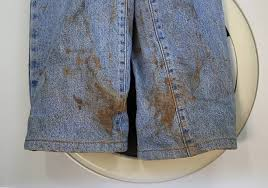earth: (96, 86, 121, 134), (152, 87, 180, 129)
